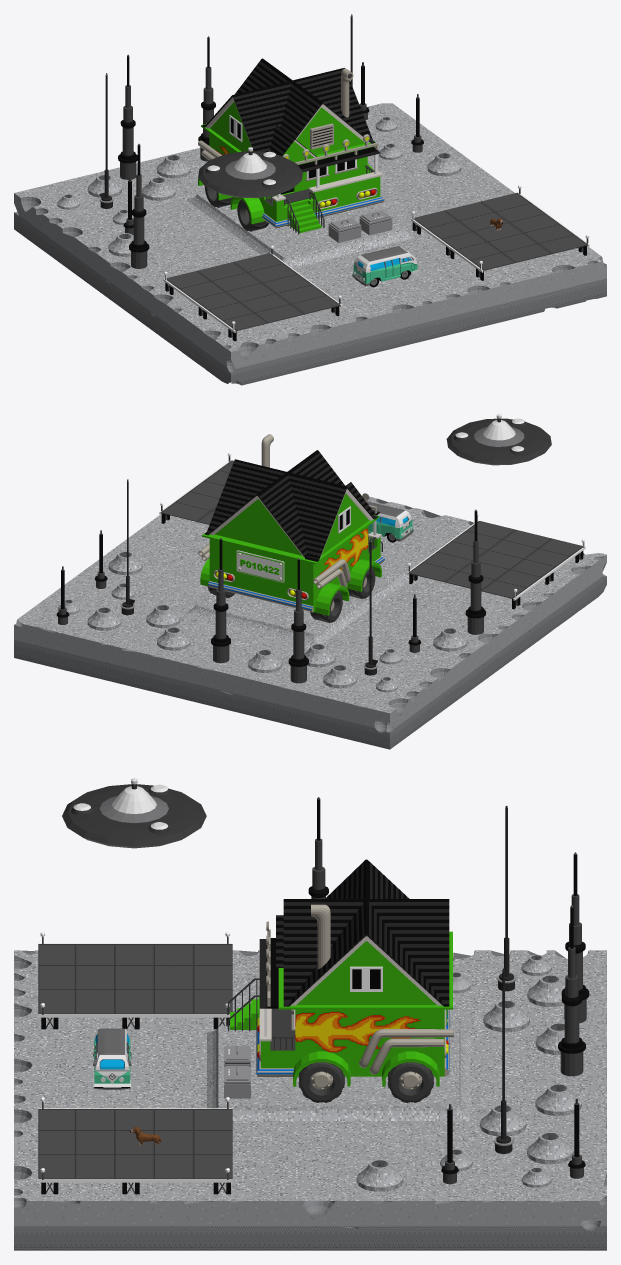
3 renders of one model, top to bottom at view 1: azimuth 30°, elevation 25°; view 2: azimuth 150°, elevation 25°; view 3: azimuth 270°, elevation 25°, orthographic. The views are drawn at different scales.
Visible parts, largest first — view 1: Cube.027, Cube.1474, Cube.025, Cube.026, Cube.028, OBJRANDOM_UFO, VEHICLES_VAN, Cylinder.021, Cylinder.020, Cylinder.017, Cube.029, Cube.030 (+5 smaller); view 2: Cube.027, Cube.1474, Cube.025, Cube.028, OBJRANDOM_UFO, Cube.026, Cylinder.021, Cylinder.017, Cylinder.020, VEHICLES_VAN, Cylinder.025, Cylinder.028 (+8 smaller); view 3: Cube.027, Cube.1474, Cube.025, Cube.026, Cube.028, OBJRANDOM_UFO, Cylinder.017, VEHICLES_VAN, Cylinder.020, Cylinder.033, Cylinder.031, Cylinder.029 (+10 smaller).
Part boxes in pixels (x1,y1,x2,y2): Cube.027: [14, 103, 606, 385]; Cube.1474: [198, 58, 384, 234]; Cube.025: [163, 245, 342, 341]; Cube.026: [411, 185, 589, 280]; Cube.028: [187, 192, 414, 267]; OBJRANDOM_UFO: [198, 147, 302, 198]; VEHICLES_VAN: [352, 246, 418, 287]; Cylinder.021: [129, 144, 149, 268]; Cylinder.020: [118, 54, 137, 179]; Cylinder.017: [198, 36, 215, 161]; Cube.029: [328, 218, 361, 242]; Cube.030: [359, 210, 392, 235]; Cube.027: [14, 496, 606, 749]; Cube.1474: [198, 434, 384, 622]; Cube.025: [407, 513, 585, 609]; Cube.028: [185, 564, 409, 645]; OBJRANDOM_UFO: [446, 414, 551, 465]; Cube.026: [159, 453, 233, 524]; Cylinder.021: [465, 509, 485, 634]; Cylinder.017: [211, 538, 230, 663]; Cylinder.020: [288, 558, 308, 683]; VEHICLES_VAN: [367, 501, 413, 542]; Cylinder.025: [433, 627, 467, 651]; Cylinder.028: [323, 664, 357, 688]; Cube.027: [14, 950, 606, 1250]; Cube.1474: [227, 859, 453, 1102]; Cube.025: [38, 932, 232, 1029]; Cube.026: [38, 1097, 232, 1194]; Cube.028: [207, 1025, 470, 1120]; OBJRANDOM_UFO: [62, 778, 206, 848]; Cylinder.017: [558, 905, 585, 1076]; VEHICLES_VAN: [93, 1028, 131, 1089]; Cylinder.020: [561, 852, 589, 1023]; Cylinder.033: [356, 1159, 403, 1191]; Cylinder.031: [527, 1132, 573, 1164]; Cylinder.029: [535, 1083, 581, 1115].
Size of the model in its own units: 4000 by 2047 by 4000.
38 materials, 5 textured.
